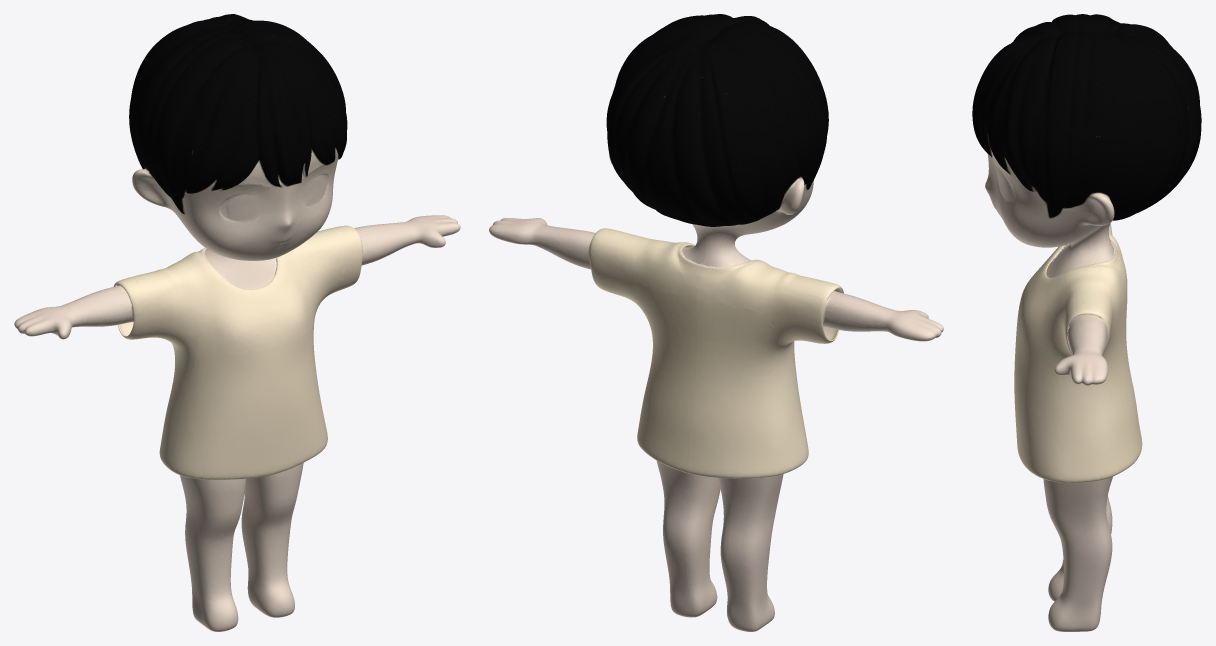
File: baked_hair_pixie.glb
3 renders of one model, left to right at view 1: azimuth 30°, elevation 25°; view 2: azimuth 150°, elevation 25°; view 3: azimuth 270°, elevation 25°, orthographic.
Bounding box in the file's own units: 1.5 × 1.9 × 0.6732.
Materials: 1 (1 with a texture image).
